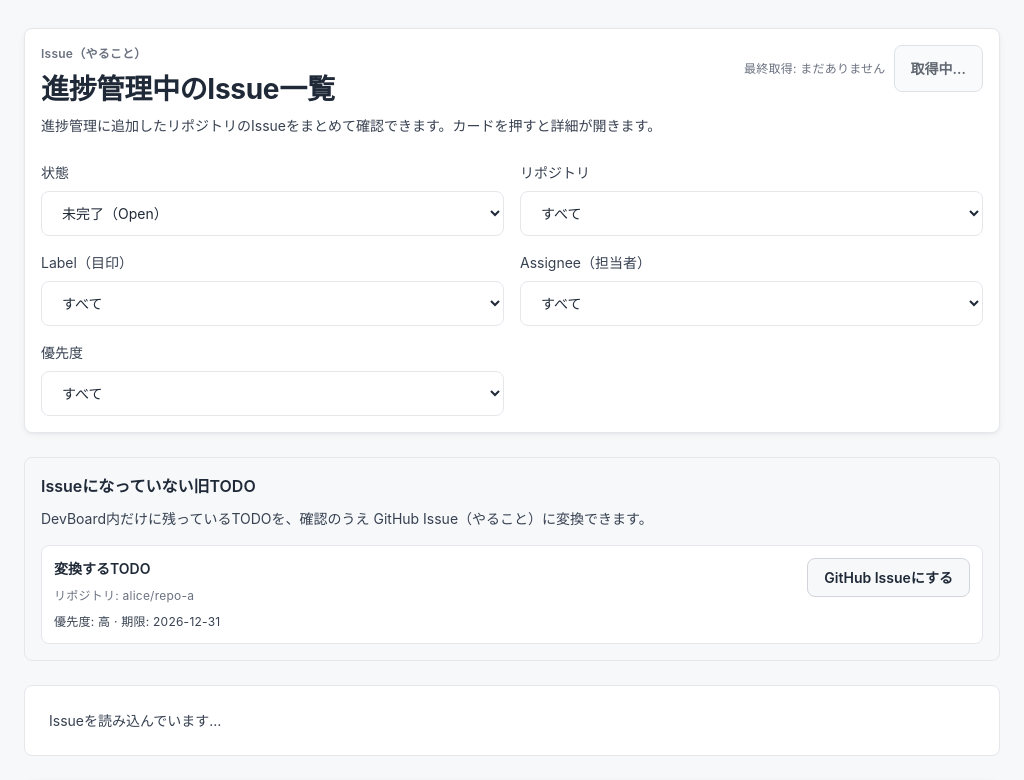
IssuesHome › legacy unlinked todos › creates a GitHub issue, links the todo, migrates local meta, and shows the new issue
The width and height of the screenshot is (1024, 780).
Click the button "GitHub Issueにする".
click(889, 577)  # box 807,558 -> 970,597
(page scrolled)
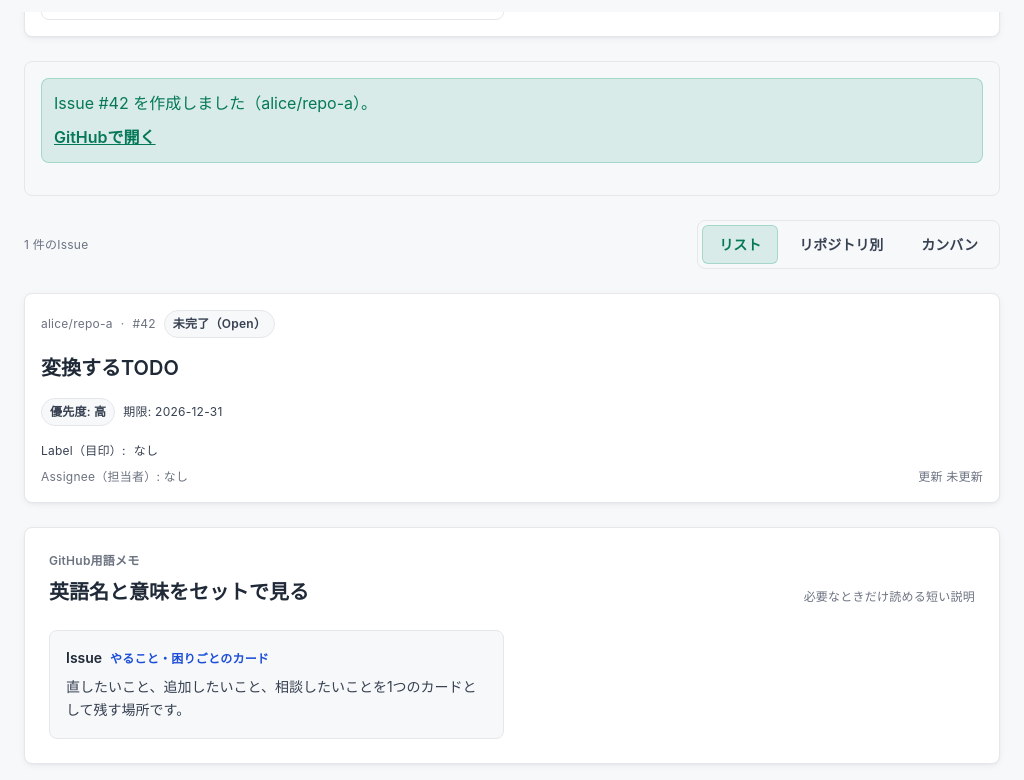
expect the message shows "Issue #42 を作成しました": met, box 41,78 -> 983,163
expect the button with aria-label "alice/repo-a #42: 変換するTODO の詳細を開く" shows "優先度: 高": met, box 24,293 -> 1000,503
